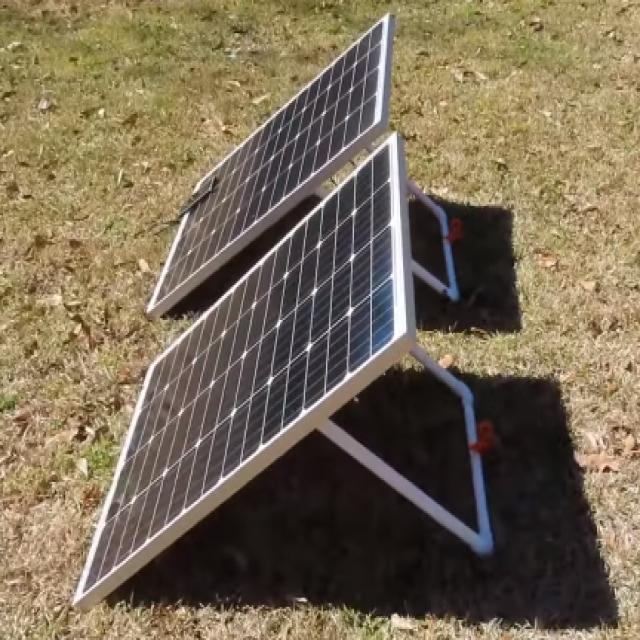Normal Solar Panel: (76, 136, 416, 607), (148, 15, 396, 316)
